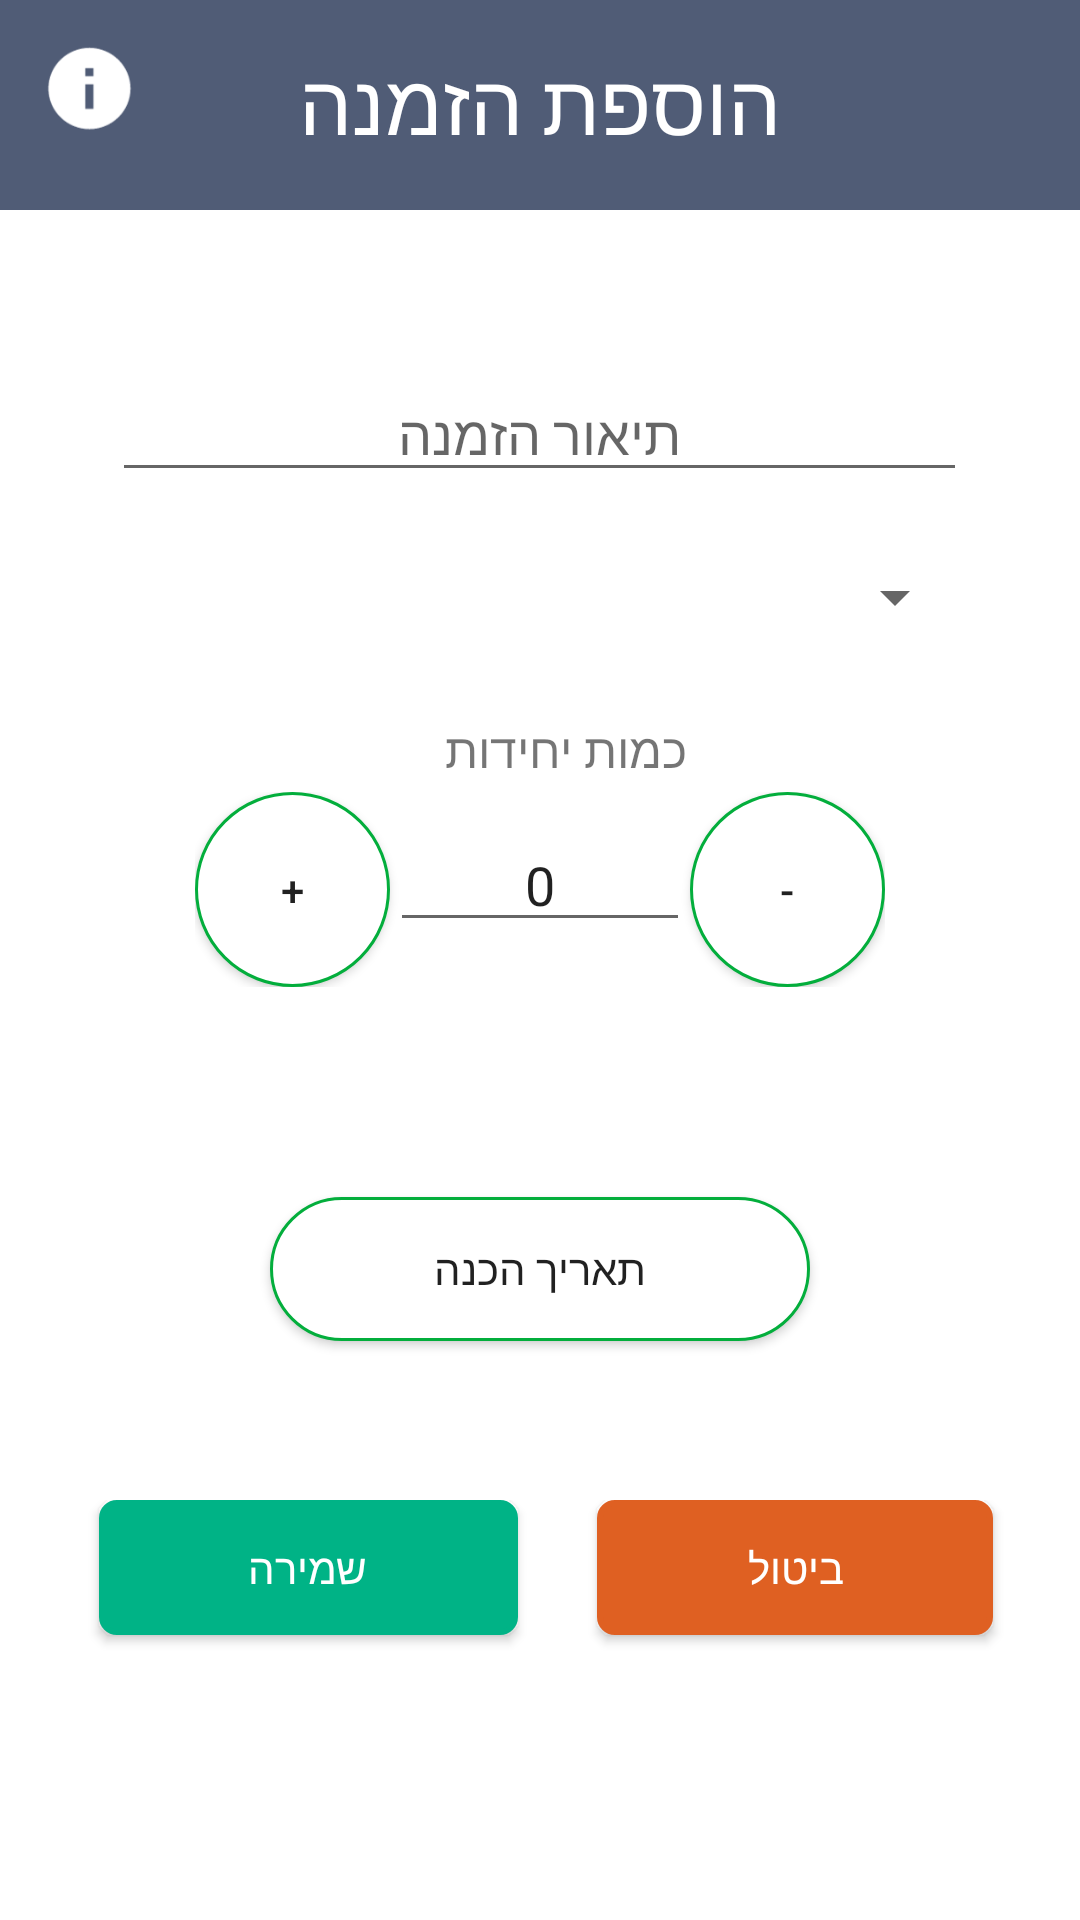

Locate icon controls on the screen. Image size 1080*1920, boxes as bbox(x1, y1, x2, y2).
information: bbox(48, 47, 131, 130)
